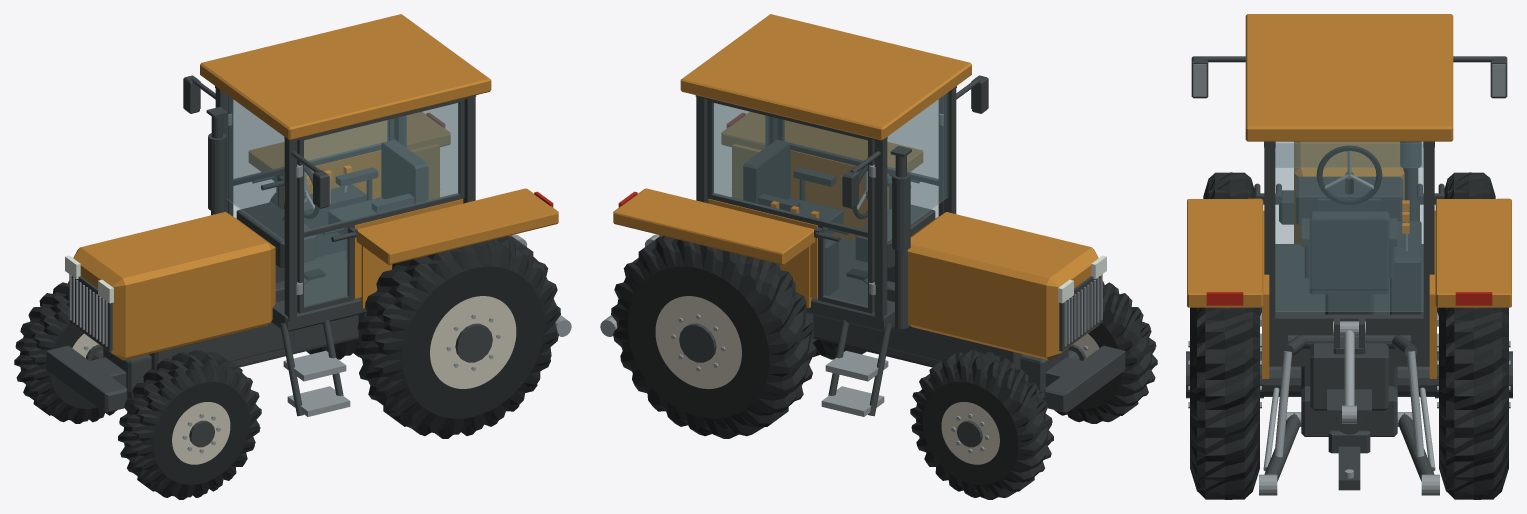
3 renders of one model, left to right at view 1: azimuth 30°, elevation 25°; view 2: azimuth 150°, elevation 25°; view 3: azimuth 270°, elevation 25°, orthographic. The views are drawn at different scales.
Parts seen in each view (by area): view 1: Rear_L_tire, Roof, Hood, Door_glass_upper-1, Front_L_tire, Fender-1, Windshield, Front_R_tire, Rear_L_rim, Door_glass_upper1, Fender1, Rear_glass (+28 smaller); view 2: Rear_R_tire, Roof, Hood, Door_glass_upper1, Front_R_tire, Fender1, Front_L_tire, Windshield, Rear_R_rim, Door_glass_upper-1, Rear_glass, Fender-1 (+30 smaller); view 3: Roof, Rear_glass, Rear_L_tire, Rear_R_tire, Fender-1, Fender1, Seat_back, Cab_floor, Rear_hydraulic_housing, Hood, Windshield, Rear_bulkhead (+37 smaller).
Boxes of the visible parts, x1=… form: Rear_L_tire: x1=355, y1=236, x2=560, y2=438; Roof: x1=200, y1=14, x2=491, y2=140; Hood: x1=73, y1=212, x2=275, y2=360; Door_glass_upper-1: x1=304, y1=103, x2=459, y2=231; Front_L_tire: x1=118, y1=350, x2=261, y2=499; Fender-1: x1=356, y1=188, x2=558, y2=264; Windshield: x1=223, y1=93, x2=284, y2=241; Front_R_tire: x1=14, y1=281, x2=128, y2=423; Rear_L_rim: x1=430, y1=296, x2=516, y2=388; Door_glass_upper1: x1=233, y1=100, x2=388, y2=179; Fender1: x1=249, y1=112, x2=450, y2=181; Rear_glass: x1=403, y1=103, x2=457, y2=199; Rear_R_tire: x1=611, y1=236, x2=816, y2=438; Roof: x1=680, y1=14, x2=971, y2=140; Hood: x1=907, y1=212, x2=1098, y2=360; Door_glass_upper1: x1=712, y1=103, x2=867, y2=231; Front_R_tire: x1=910, y1=350, x2=1053, y2=499; Fender1: x1=613, y1=188, x2=815, y2=264; Front_L_tire: x1=1043, y1=281, x2=1157, y2=423; Windshield: x1=887, y1=93, x2=948, y2=241; Rear_R_rim: x1=655, y1=296, x2=741, y2=388; Door_glass_upper-1: x1=783, y1=100, x2=938, y2=179; Rear_glass: x1=714, y1=103, x2=768, y2=199; Fender-1: x1=721, y1=112, x2=922, y2=171; Roof: x1=1245, y1=14, x2=1453, y2=141; Rear_glass: x1=1275, y1=143, x2=1423, y2=311; Rear_L_tire: x1=1190, y1=307, x2=1259, y2=499; Rear_R_tire: x1=1439, y1=307, x2=1508, y2=499; Fender-1: x1=1187, y1=198, x2=1263, y2=307; Fender1: x1=1435, y1=198, x2=1511, y2=307; Seat_back: x1=1309, y1=211, x2=1389, y2=290; Cab_floor: x1=1269, y1=244, x2=1429, y2=366; Rear_hydraulic_housing: x1=1310, y1=343, x2=1388, y2=410; Hood: x1=1294, y1=141, x2=1404, y2=245; Windshield: x1=1275, y1=142, x2=1423, y2=167; Rear_bulkhead: x1=1275, y1=314, x2=1423, y2=353.
Bounding box in the file's own units: 3.69 × 2.56 × 1.97.
